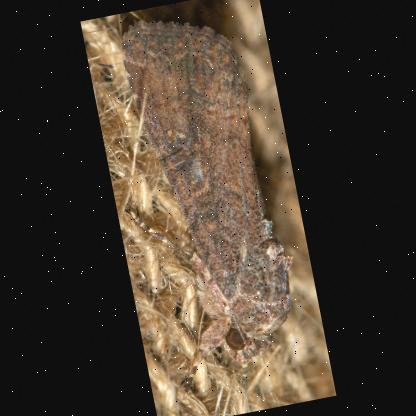Fall Armyworm Moth: (86, 0, 319, 409)
